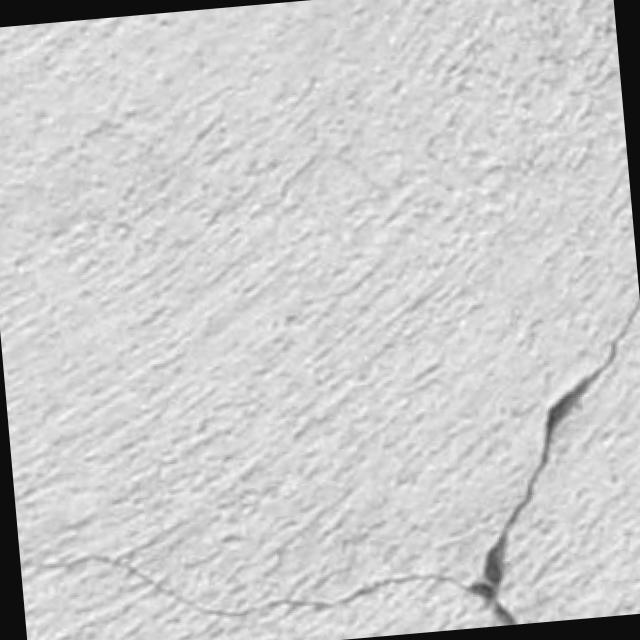crack: (38, 299, 639, 625), (470, 299, 639, 624), (40, 555, 472, 619)
